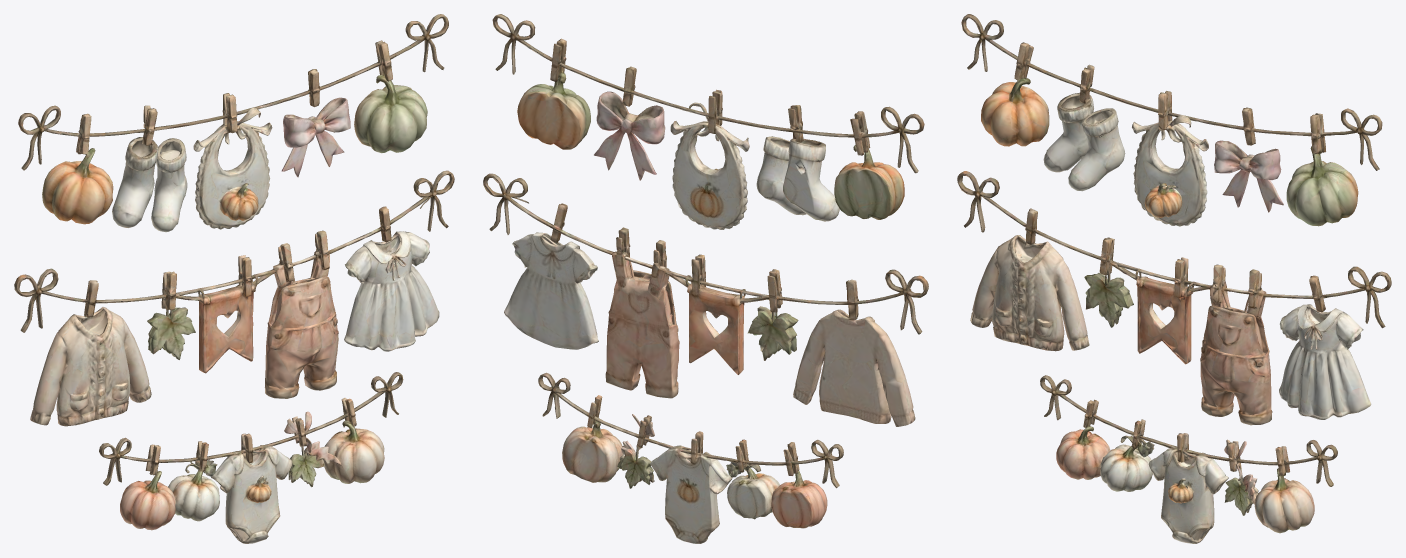
3 views of the same model, side by side, from view 1: azimuth 30°, elevation 25°; view 2: azimuth 150°, elevation 25°; view 3: azimuth 330°, elevation 25° (orthographic). The views are drawn at different scales.
Visible parts, largest first — view 1: Mesh 5, Mesh 6, Mesh 3; view 2: Mesh 5, Mesh 6, Mesh 3; view 3: Mesh 5, Mesh 6, Mesh 3.
Boxes of the visible parts, left/top/right/bottom form: Mesh 5: left=14, top=170, right=454, bottom=426; Mesh 6: left=18, top=14, right=448, bottom=232; Mesh 3: left=99, top=372, right=403, bottom=543; Mesh 5: left=483, top=173, right=928, bottom=426; Mesh 6: left=492, top=14, right=924, bottom=229; Mesh 3: left=538, top=372, right=843, bottom=543; Mesh 5: left=957, top=171, right=1391, bottom=425; Mesh 6: left=961, top=14, right=1382, bottom=226; Mesh 3: left=1040, top=375, right=1337, bottom=543.
Bounding box in the file's own units: 1.82 × 1.9 × 0.1833.
3 materials, 3 textured.
